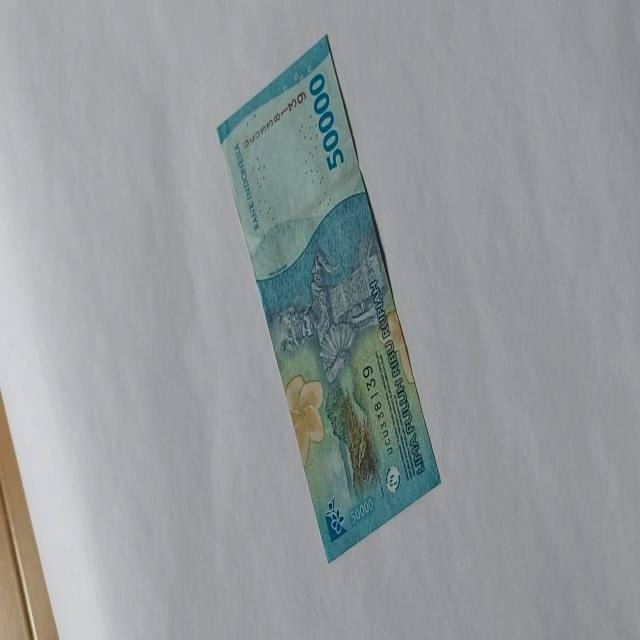lima puluh ribu rupiah: (214, 32, 442, 564)
